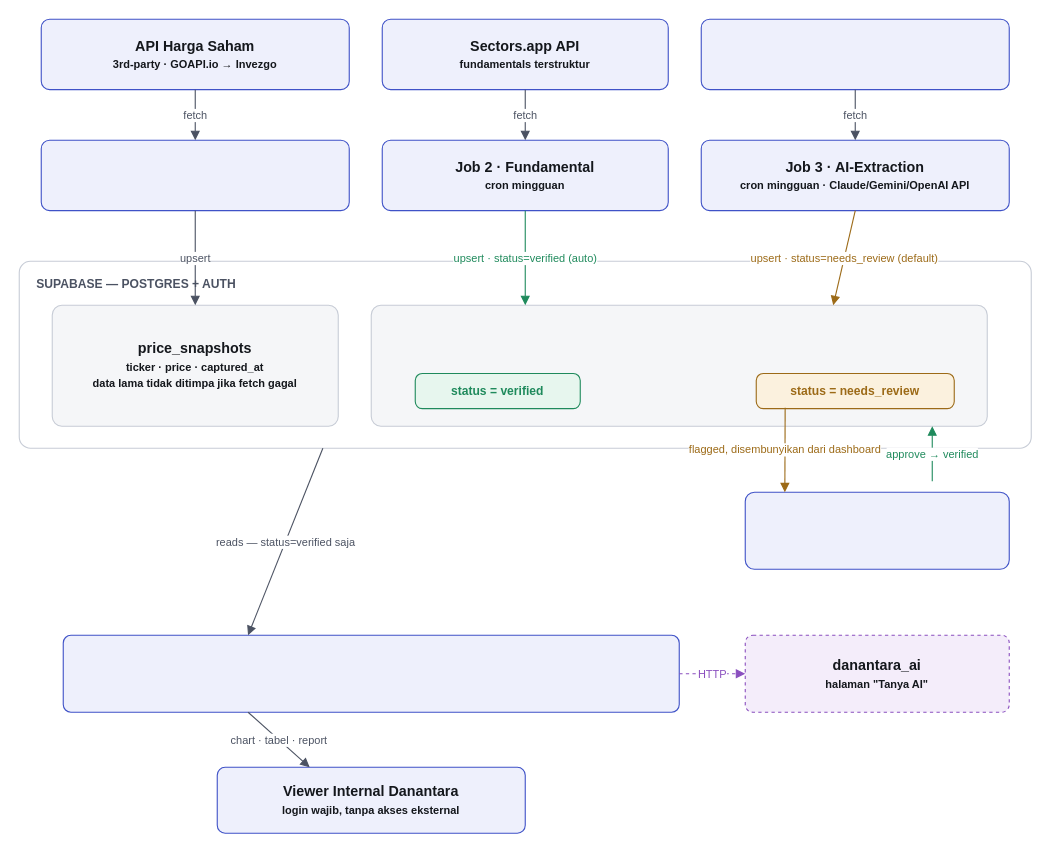
The diagram is 1051 pixels wide and 853 high, and some of its shapes have lost their labels. Here are the shapes that lost their labels. From the top down, the box of each, then its label:
(700, 18, 1009, 90): Dokumen Resmi IDX filing / IR perusahaan
(40, 139, 349, 211): Job 1 · Harga Saham cron ±15 min, jam bursa
(370, 304, 987, 426): financial_reports revenue · net_profit · total_assets · source_url · status
(744, 491, 1009, 569): Reviewer manusia tim Danantara cek & approve angka hasil AI-extraction
(62, 634, 679, 712): Next.js Dashboard Server Components · Supabase Auth · login internal
